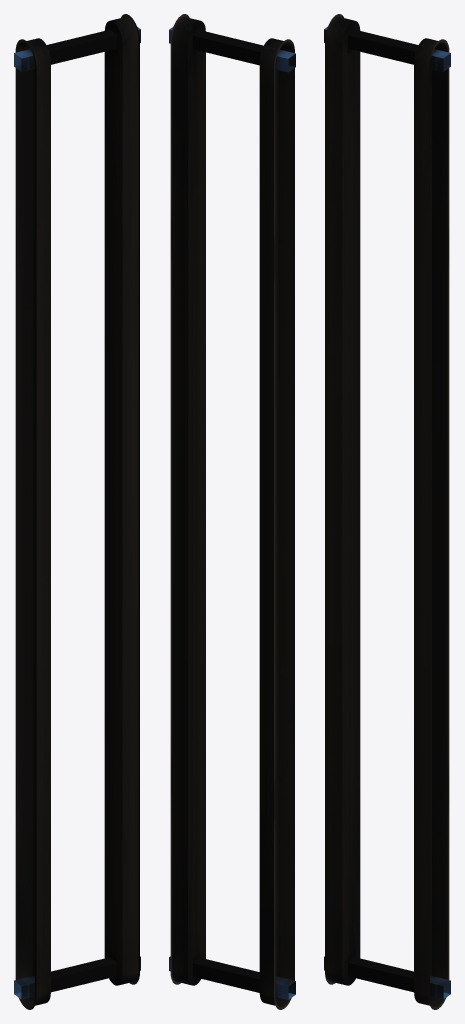
Rendered from conveyor4.dae.
The picture shows the model from 3 angles, left to right: view 1: azimuth 30°, elevation 25°; view 2: azimuth 150°, elevation 25°; view 3: azimuth 330°, elevation 25°; orthographic projection.
Visible parts, largest first — view 1: Conveyor01Frame_Conveyor_0.004; view 2: Conveyor01Frame_Conveyor_0.004; view 3: Conveyor01Frame_Conveyor_0.004.
Part boxes in pixels (x1,y1,x2,y2): Conveyor01Frame_Conveyor_0.004: [14, 14, 140, 1009]; Conveyor01Frame_Conveyor_0.004: [169, 14, 295, 1009]; Conveyor01Frame_Conveyor_0.004: [324, 14, 450, 1009].
Bounding box in the file's own units: 0.4615 × 0.14 × 3.57.
1 material, 1 textured.
